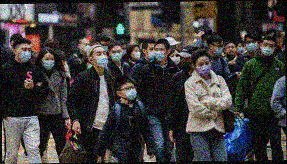with_mask: (195, 59, 212, 77), (93, 50, 109, 68), (122, 84, 138, 101), (17, 46, 32, 63), (260, 41, 275, 58), (154, 46, 168, 62), (179, 57, 193, 72), (245, 38, 258, 54), (42, 56, 55, 71), (110, 48, 123, 62), (169, 52, 182, 66), (213, 43, 224, 56), (80, 41, 91, 54), (131, 48, 142, 60), (146, 45, 155, 59), (100, 42, 111, 53), (235, 44, 243, 54)
without_mask: (225, 44, 236, 55)
